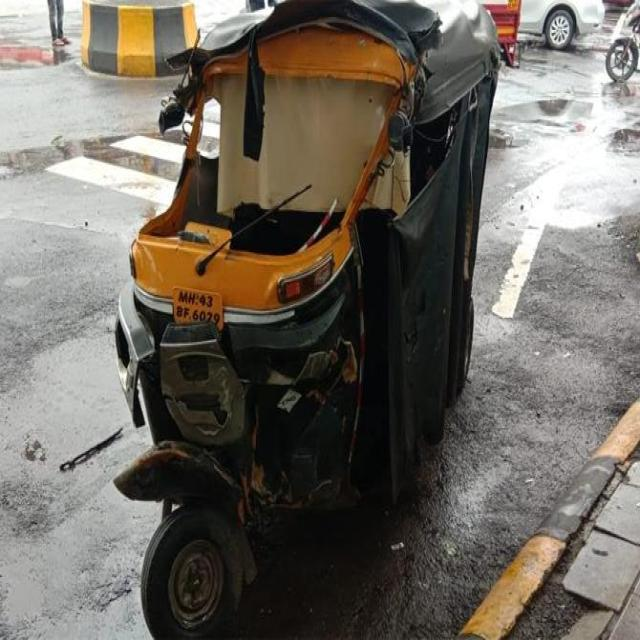accident: (115, 0, 499, 637)
